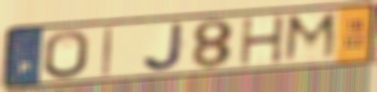8: (189, 17, 236, 71)
H: (239, 14, 288, 68)
I: (100, 25, 115, 78)
J: (140, 20, 188, 73)
M: (280, 10, 340, 65)
O: (42, 29, 92, 80)
